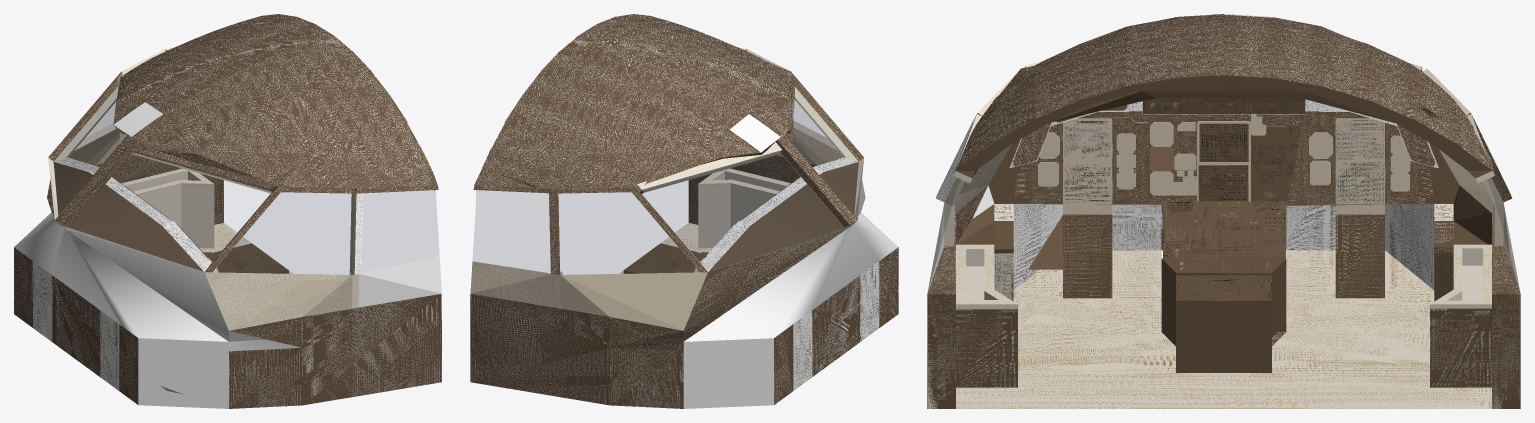
The model's file is Cockpit.obj.
The picture shows the model from 3 angles, left to right: view 1: azimuth 30°, elevation 25°; view 2: azimuth 150°, elevation 25°; view 3: azimuth 270°, elevation 25°; orthographic projection. The views are drawn at different scales.
Visible parts, largest first — view 1: instance_1.154_ID3186, instance_1.040_ID2440, instance_1.101_ID2837, instance_1.065_ID2597, instance_1.020_ID2309, instance_1.178_ID3339, instance_1.122_ID2963, instance_1.106_ID2867, instance_1.039_ID2434, instance_1.113_ID2909, instance_1.111_ID2897, instance_1.115_ID2921 (+23 smaller); view 2: instance_1.154_ID3186, instance_1.112_ID2903, instance_1.040_ID2440, instance_1.106_ID2867, instance_1.072_ID2641, instance_1.119_ID2945, instance_1.177_ID3333, instance_1.020_ID2309, instance_1.039_ID2434, instance_1.118_ID2939, instance_1.102_ID2843, instance_1.013_ID2267 (+21 smaller); view 3: instance_1.030_ID2371, instance_1.154_ID3186, instance_1.144_ID3108, instance_1.153_ID3180, instance_1.009_ID2243, instance_1.148_ID3141, instance_1.121_ID2957, instance_1.116_ID2927, instance_1.110_ID2891, instance_1.109_ID2885, instance_1.035_ID2408, instance_1.031_ID2384 (+45 smaller).
Part boxes in pixels (<box>): instance_1.154_ID3186: <box>113,14,432,192</box>; instance_1.040_ID2440: <box>14,212,301,408</box>; instance_1.101_ID2837: <box>229,294,441,408</box>; instance_1.065_ID2597: <box>214,193,353,274</box>; instance_1.020_ID2309: <box>53,162,203,271</box>; instance_1.178_ID3339: <box>362,190,438,272</box>; instance_1.122_ID2963: <box>204,272,351,330</box>; instance_1.106_ID2867: <box>54,87,119,213</box>; instance_1.039_ID2434: <box>52,275,100,376</box>; instance_1.113_ID2909: <box>359,256,441,307</box>; instance_1.111_ID2897: <box>140,186,214,248</box>; instance_1.115_ID2921: <box>230,275,352,330</box>; instance_1.154_ID3186: <box>474,14,792,195</box>; instance_1.112_ID2903: <box>470,229,845,408</box>; instance_1.040_ID2440: <box>683,179,897,408</box>; instance_1.106_ID2867: <box>641,153,842,271</box>; instance_1.072_ID2641: <box>559,193,698,274</box>; instance_1.119_ID2945: <box>560,272,707,330</box>; instance_1.177_ID3333: <box>473,190,550,272</box>; instance_1.020_ID2309: <box>708,162,858,271</box>; instance_1.039_ID2434: <box>812,275,860,376</box>; instance_1.118_ID2939: <box>470,261,560,308</box>; instance_1.102_ID2843: <box>698,187,772,248</box>; instance_1.013_ID2267: <box>695,157,858,272</box>; instance_1.030_ID2371: <box>956,250,1491,408</box>; instance_1.154_ID3186: <box>970,14,1492,170</box>; instance_1.144_ID3108: <box>1161,258,1286,372</box>; instance_1.153_ID3180: <box>955,75,1492,178</box>; instance_1.009_ID2243: <box>1013,111,1369,205</box>; instance_1.148_ID3141: <box>1163,200,1285,258</box>; instance_1.121_ID2957: <box>1430,308,1491,387</box>; instance_1.116_ID2927: <box>956,309,1017,387</box>; instance_1.110_ID2891: <box>1492,214,1520,408</box>; instance_1.109_ID2885: <box>927,214,955,408</box>; instance_1.035_ID2408: <box>1335,214,1384,298</box>; instance_1.031_ID2384: <box>1063,214,1112,298</box>.
Size of the model in its own units: 2.16 by 1.95 by 3.1.
29 materials, 11 textured.
